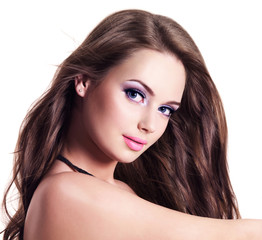teen: (72, 20, 205, 167)
